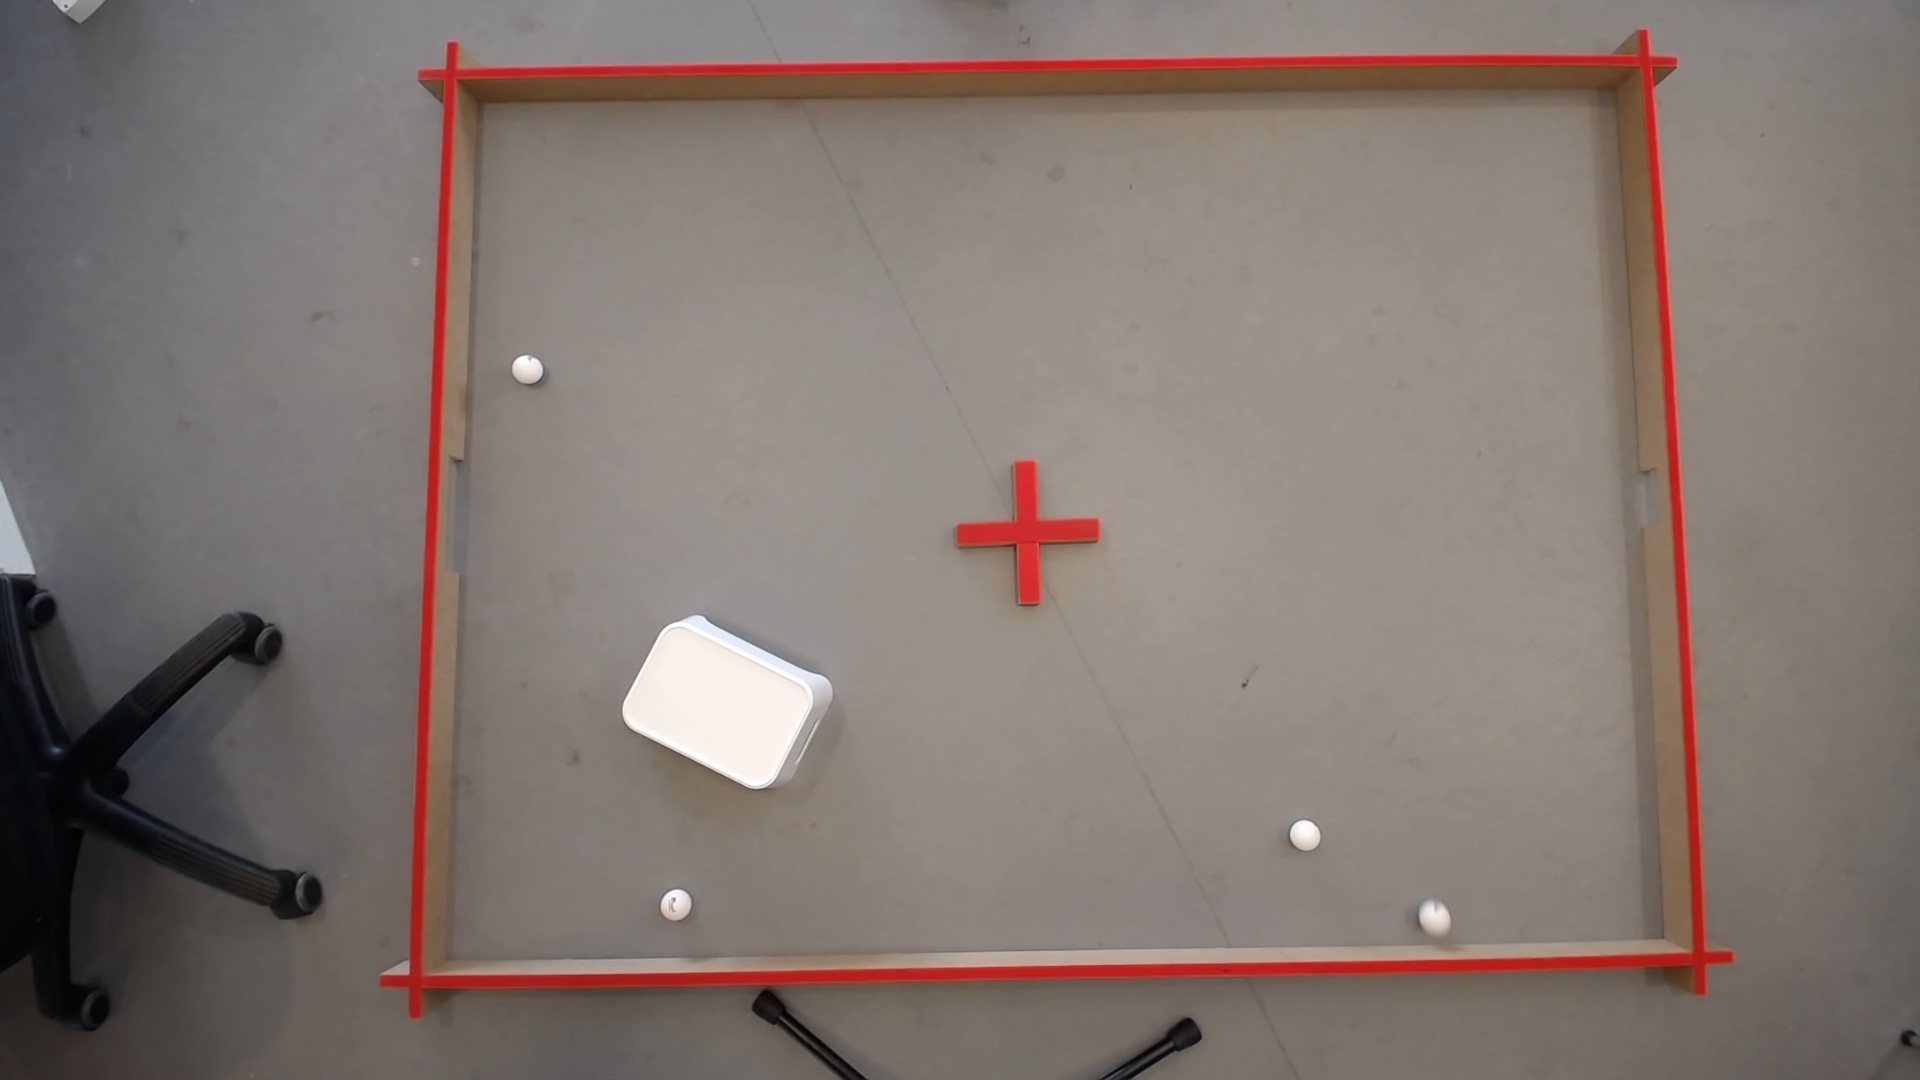balls: (613, 600, 831, 798), (655, 884, 694, 922), (1286, 815, 1324, 851), (512, 355, 542, 378)
car: (1415, 898, 1453, 932)
